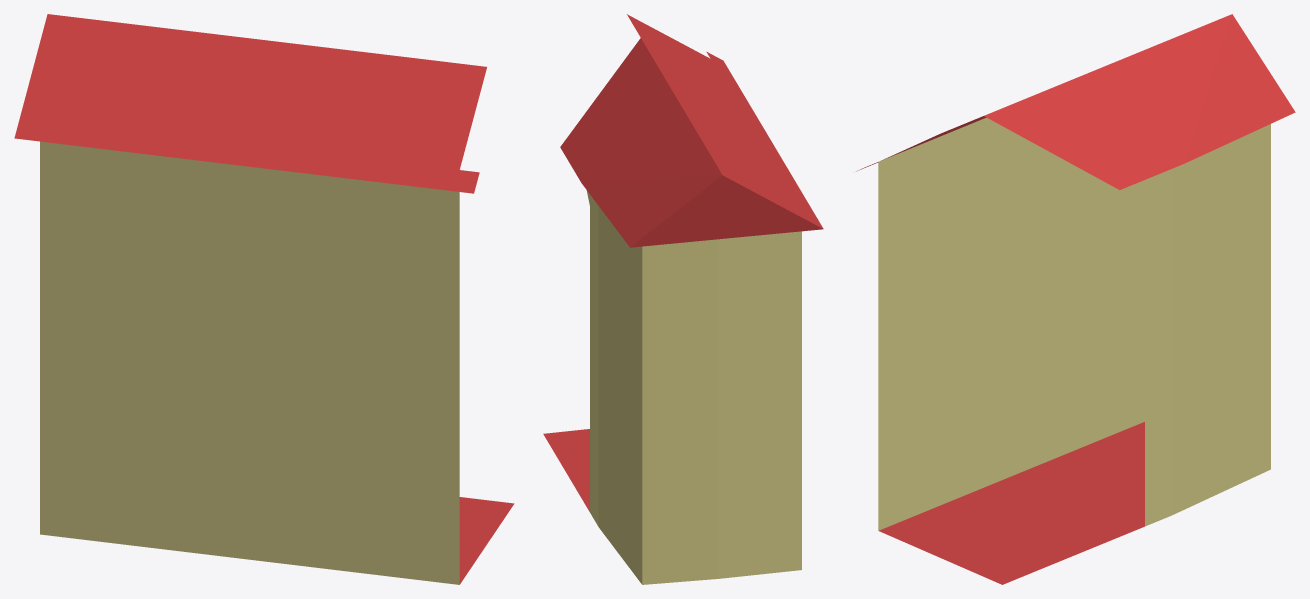
The picture shows the model from 3 angles, left to right: view 1: azimuth 30°, elevation 25°; view 2: azimuth 150°, elevation 25°; view 3: azimuth 270°, elevation 25°; orthographic projection. The views are drawn at different scales.
Bounding box in the file's own units: 11.48 × 12 × 12.67.
